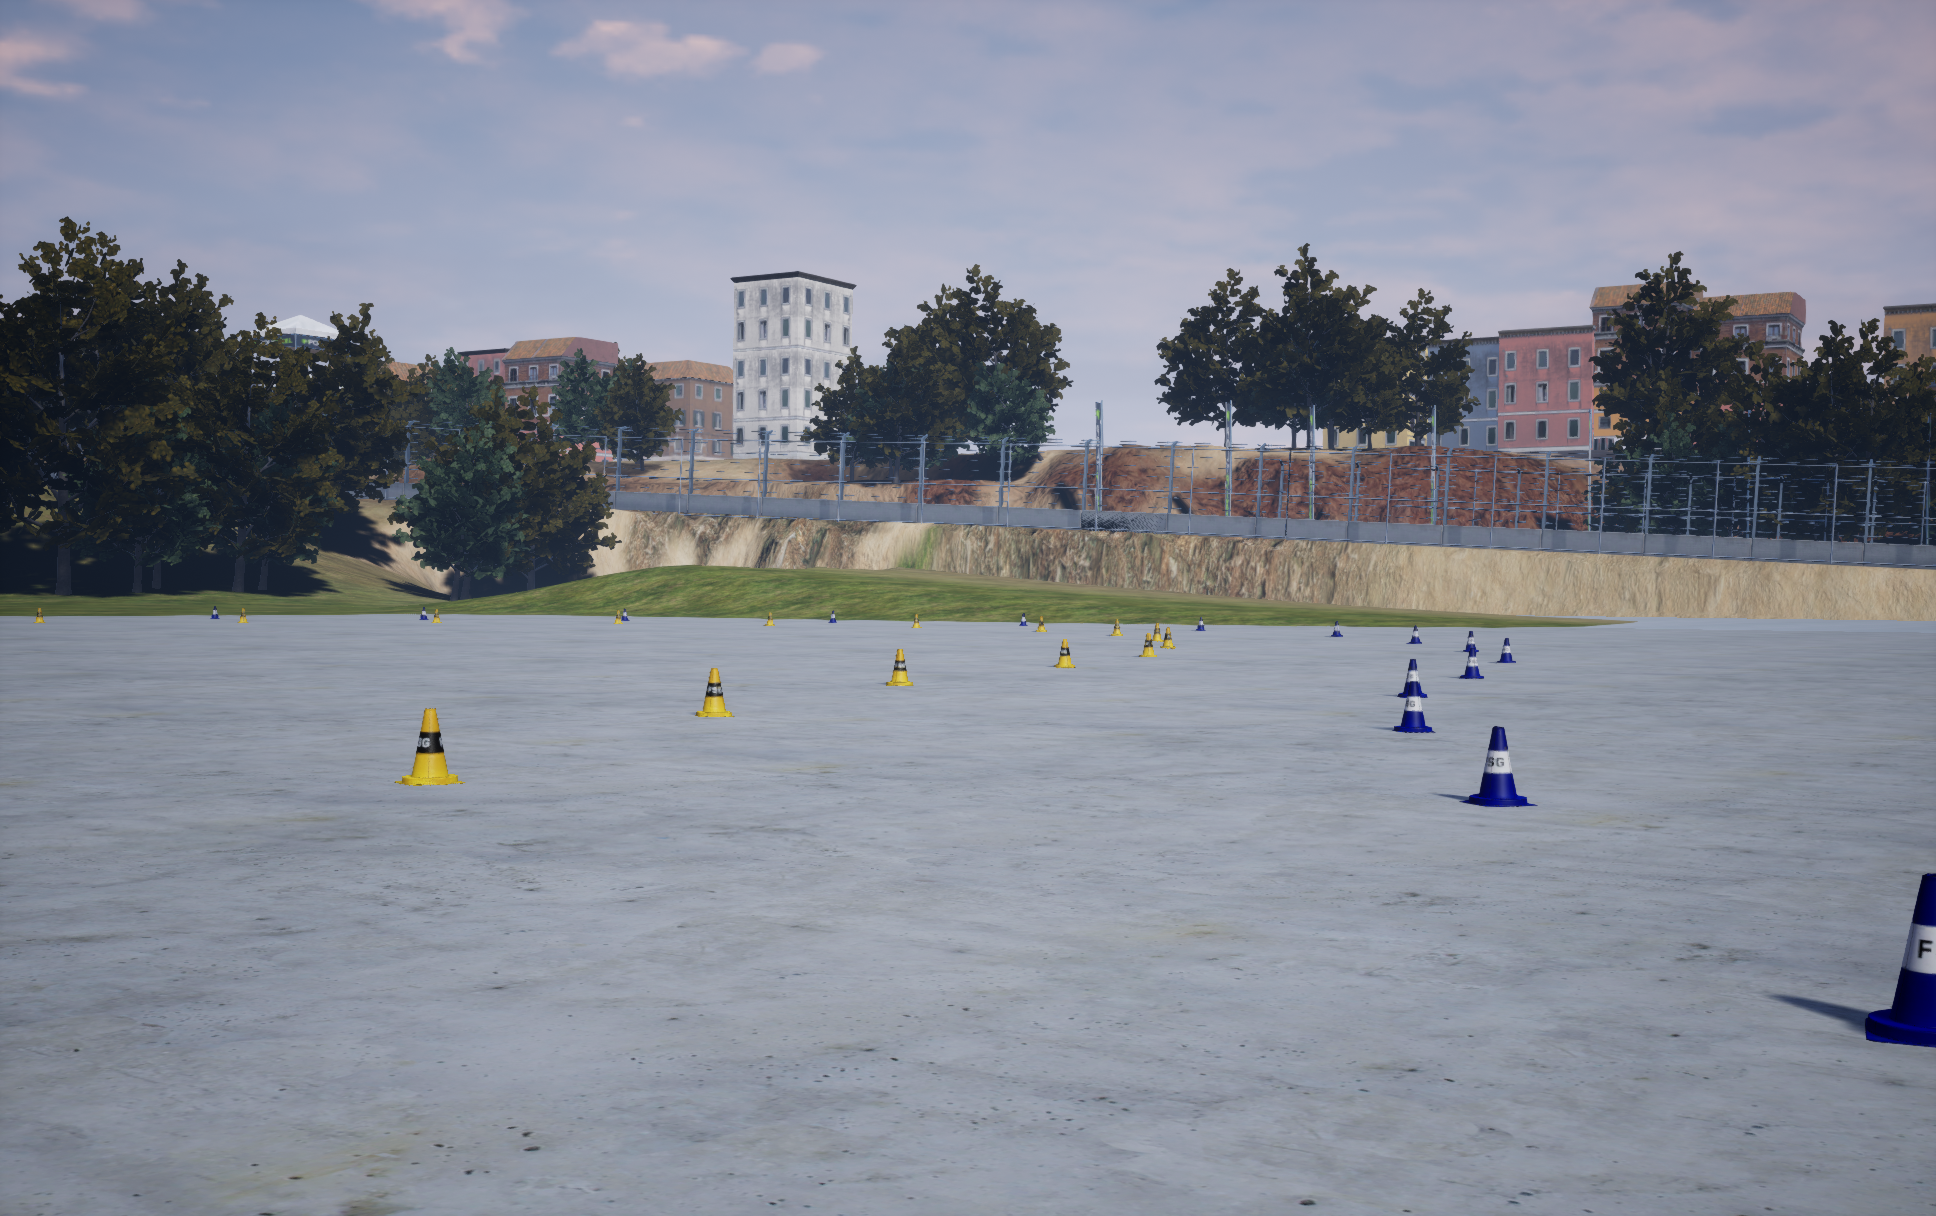blue: (394, 707, 465, 785), (695, 668, 734, 716), (885, 649, 913, 685), (1053, 639, 1074, 667), (1139, 633, 1156, 656), (1160, 628, 1175, 649), (1152, 623, 1163, 642)
yellow: (1865, 873, 1935, 1046), (1458, 726, 1537, 806), (1392, 681, 1434, 733), (1397, 658, 1427, 698), (1458, 649, 1484, 678), (1498, 637, 1514, 663), (1463, 630, 1478, 651), (1406, 625, 1420, 643)
